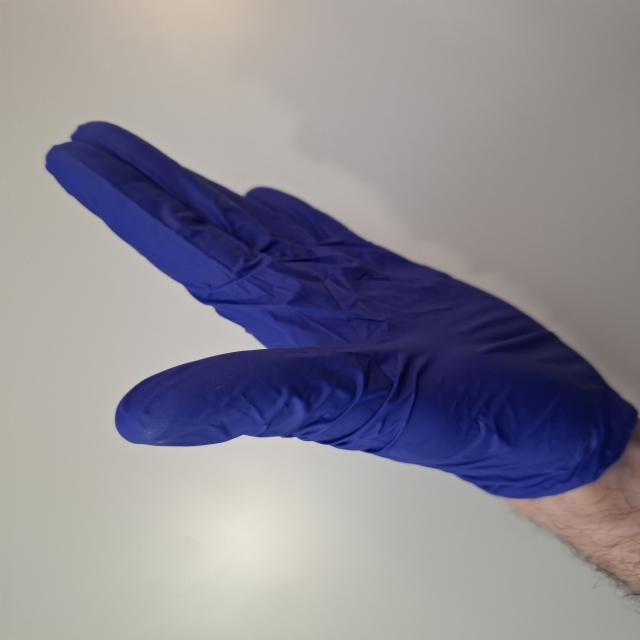glove_on: (38, 117, 640, 517)
